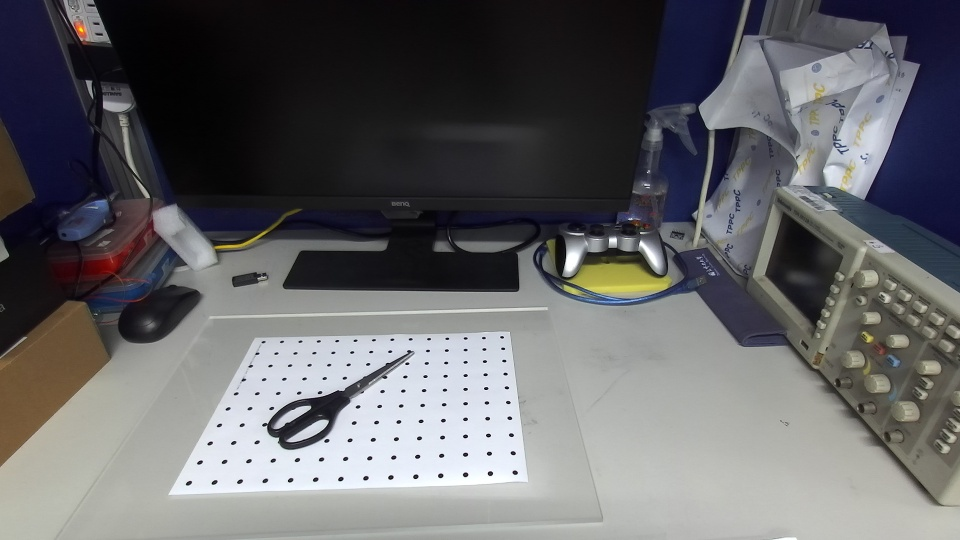blade: (343, 350, 414, 396)
round_grasp: (267, 390, 351, 450)
